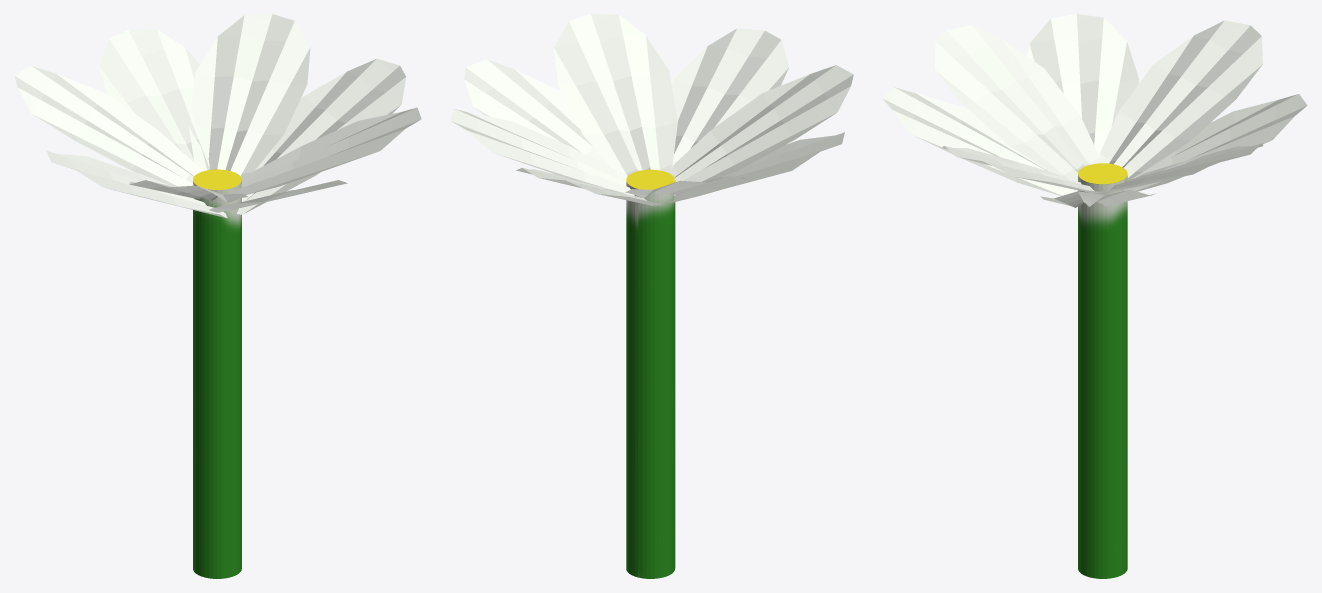
Rendered from Planta 02.fbx.
The picture shows the model from 3 angles, left to right: view 1: azimuth 30°, elevation 25°; view 2: azimuth 150°, elevation 25°; view 3: azimuth 270°, elevation 25°; orthographic projection.
Visible parts, largest first — view 1: Círculo.005; view 2: Círculo.005; view 3: Círculo.005.
Boxes of the visible parts, box(x1,y1,x2,y2) form: Círculo.005: box(14, 14, 421, 578); Círculo.005: box(450, 14, 853, 578); Círculo.005: box(882, 14, 1307, 578).
Bounding box in the file's own units: 613 × 762 × 614.
1 material, 1 textured.
